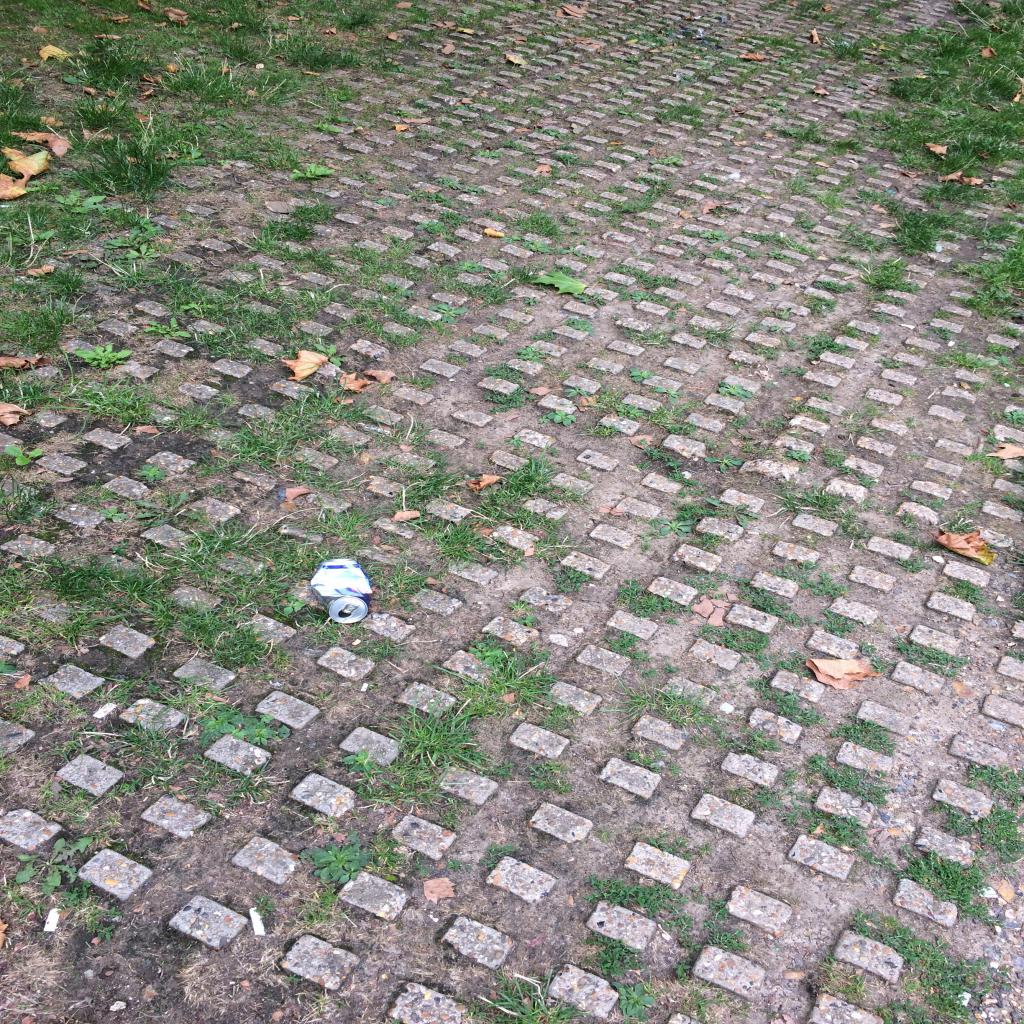Drink can: (310, 559, 372, 623)
Pop tab: (342, 604, 358, 614)
